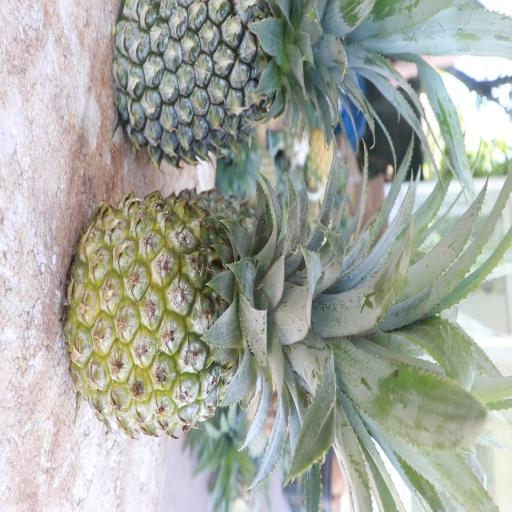------------------------------: (60, 182, 355, 448)
